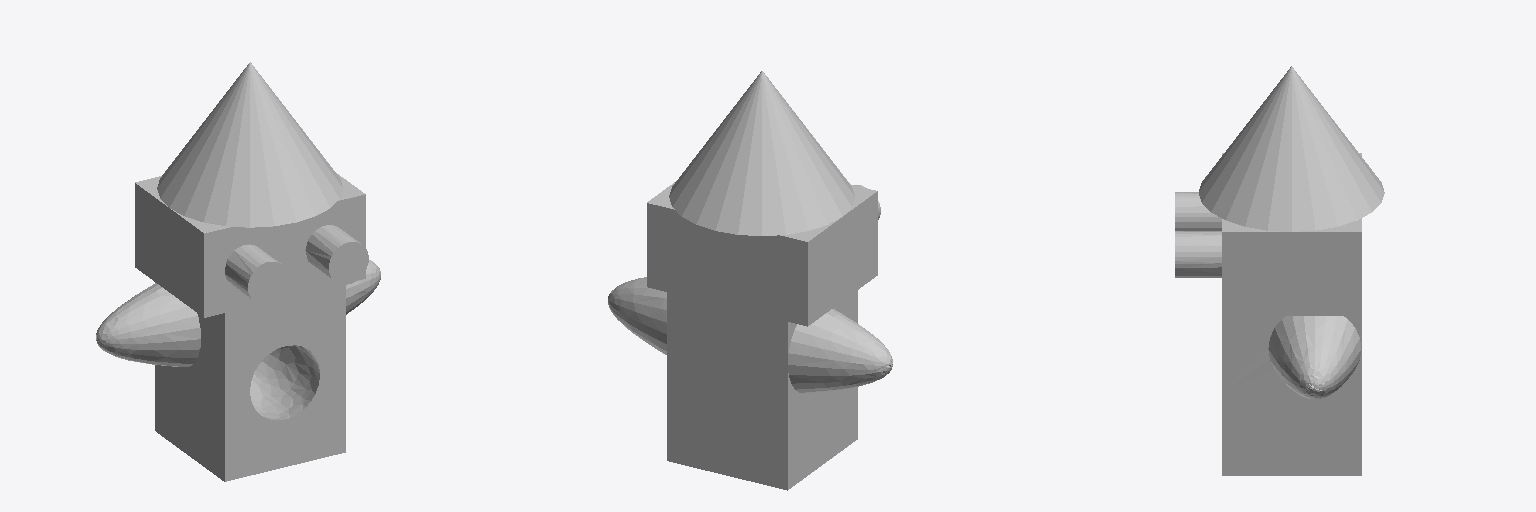
Rendered from Robot.obj.
3 renders of one model, left to right at view 1: azimuth 30°, elevation 25°; view 2: azimuth 150°, elevation 25°; view 3: azimuth 270°, elevation 25°, orthographic.
Parts seen in each view (by area): view 1: obj_0; view 2: obj_0; view 3: obj_0.
Part boxes in pixels (x1,y1,x2,y2): obj_0: (96, 62, 380, 481); obj_0: (608, 71, 892, 490); obj_0: (1175, 66, 1384, 475).
Bounding box in the file's own units: 35 × 45 × 22.5.